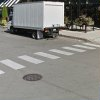crosswalk: (0, 42, 99, 75)
